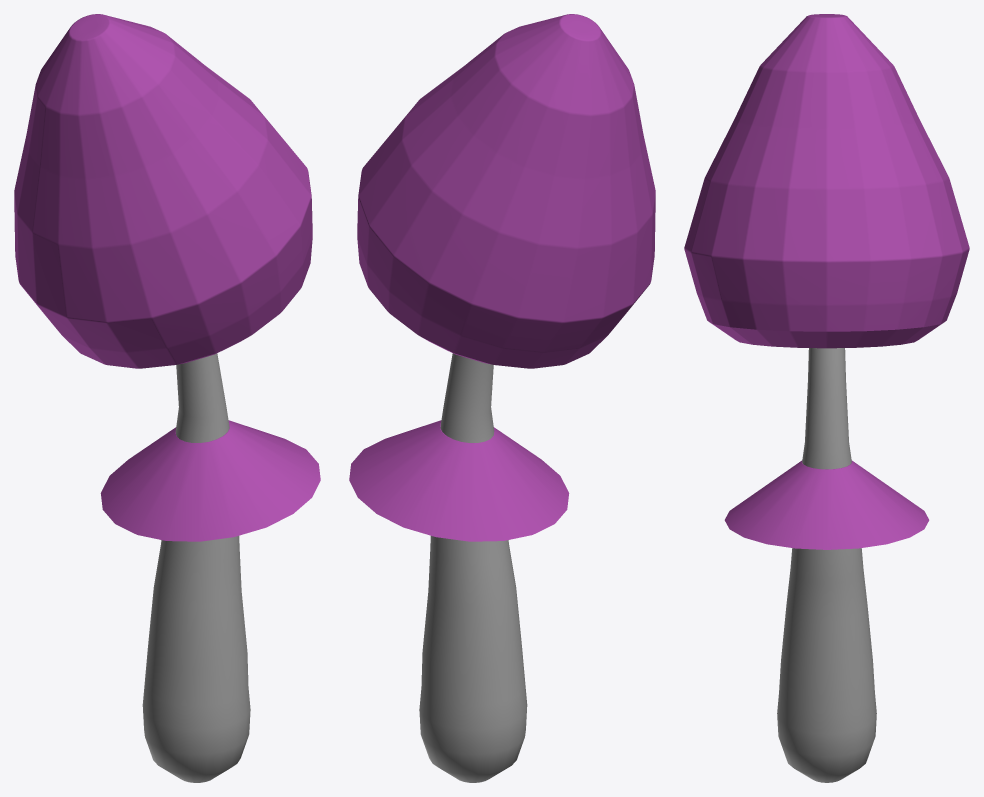
Rendered from mushroom 1.fbx.
3 renders of one model, left to right at view 1: azimuth 30°, elevation 25°; view 2: azimuth 150°, elevation 25°; view 3: azimuth 270°, elevation 25°, orthographic. The views are drawn at different scales.
Visible parts, largest first — view 1: mushroom_1; view 2: mushroom_1; view 3: mushroom_1.
Part boxes in pixels (x1,y1,x2,y2): mushroom_1: (14, 14, 320, 782); mushroom_1: (349, 14, 655, 782); mushroom_1: (684, 14, 969, 782).
Size of the model in its own units: 0.1906 by 0.187 by 0.5194.
